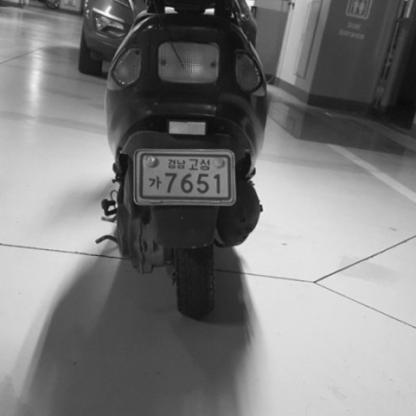bnum: (134, 147, 238, 207)
